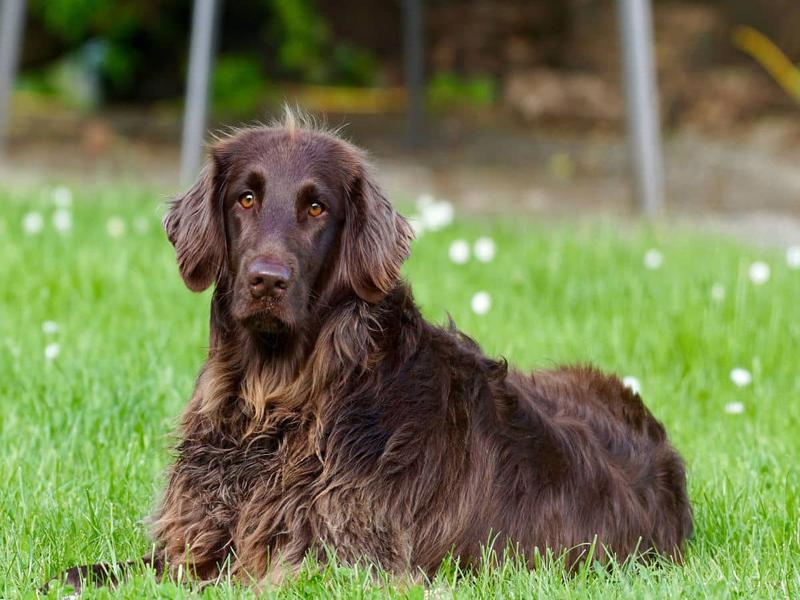dog_down: (154, 118, 691, 579)
